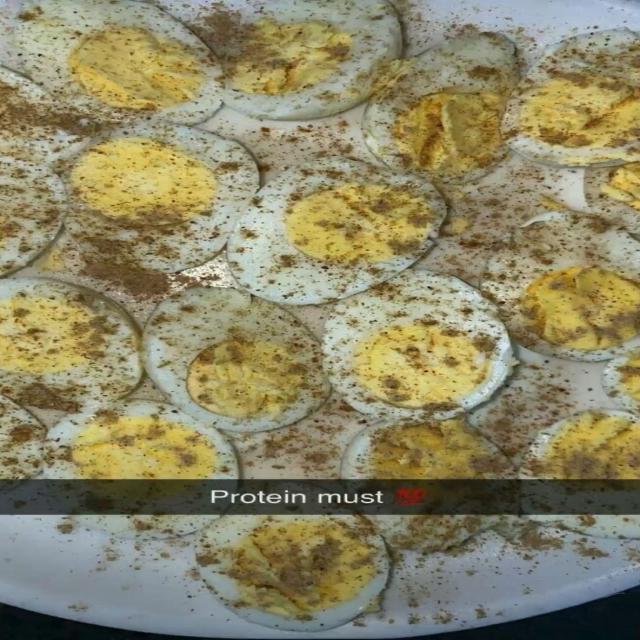eggs: (14, 0, 614, 478)
